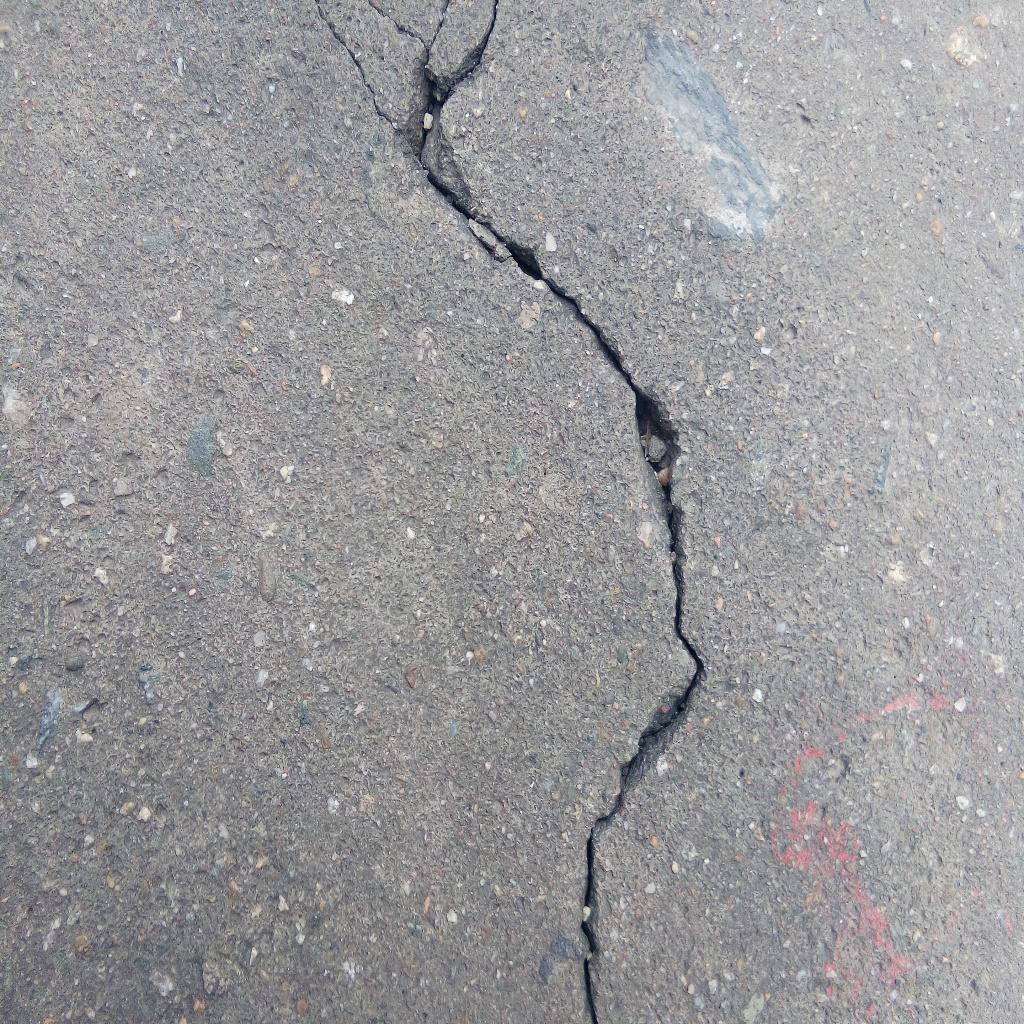Crack: (312, 1, 707, 1024)
